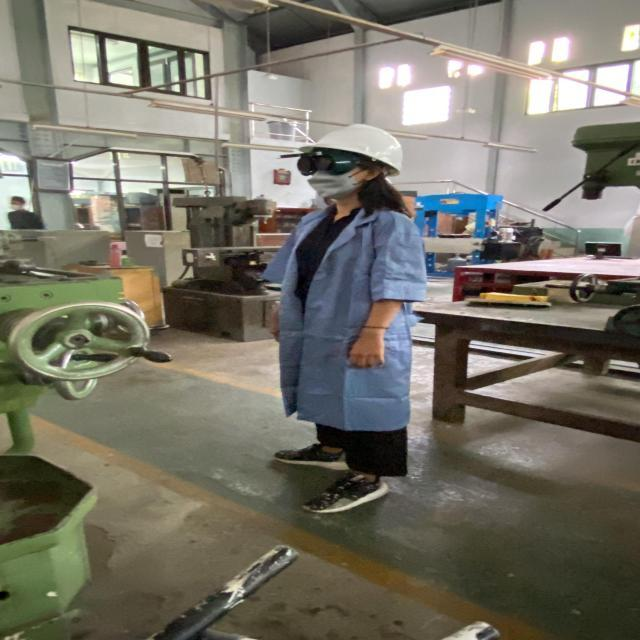glasses: (273, 152, 372, 174)
